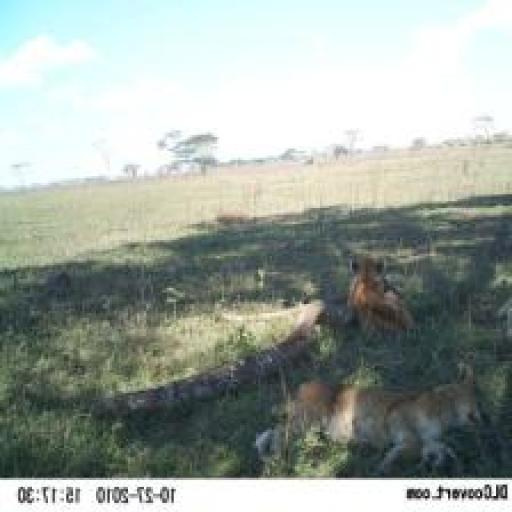lion: (263, 364, 499, 482), (329, 247, 436, 355)
